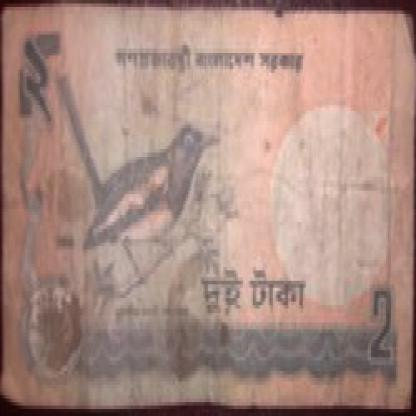two taka: (366, 277, 406, 409), (24, 35, 64, 132)
